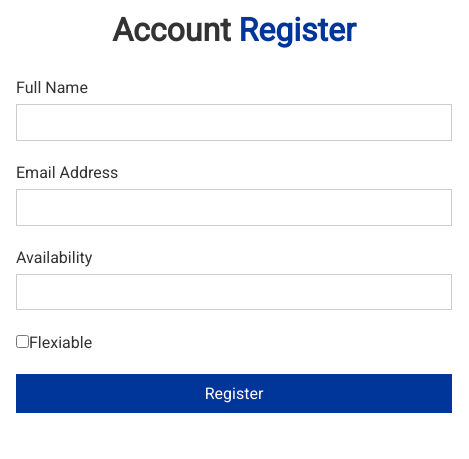
Test: <Form /> › availability must be a number
Type "Samundra" into the field with id "name" at (234, 123), box 16,104 -> 452,141
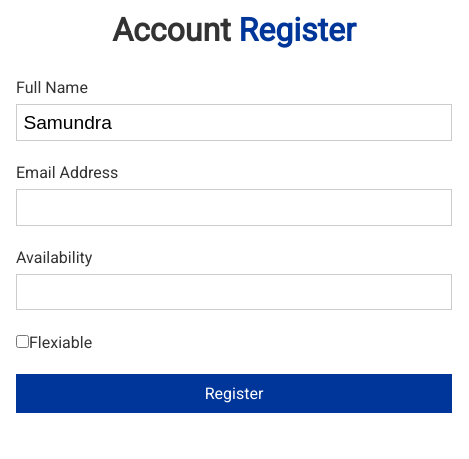
Type "abc" into the field with id "availability" at (234, 292), box 16,274 -> 452,310
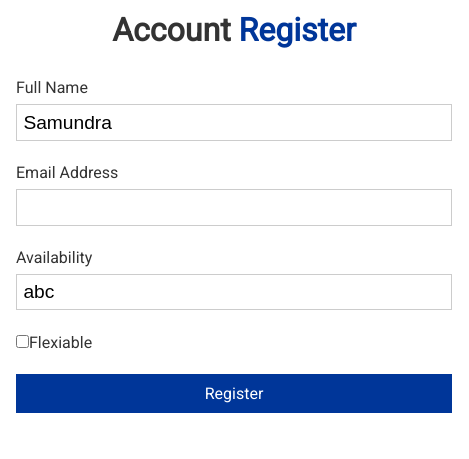
Submit the form
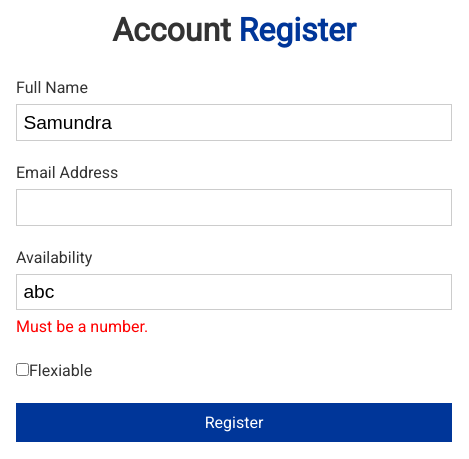
Now the text with id "avai-error" shows "Must be a number", box 16,317 -> 148,336
